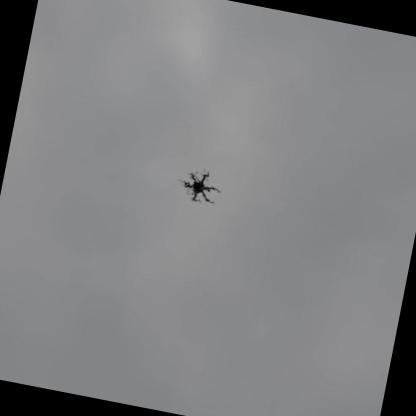drone: (168, 160, 228, 211)
